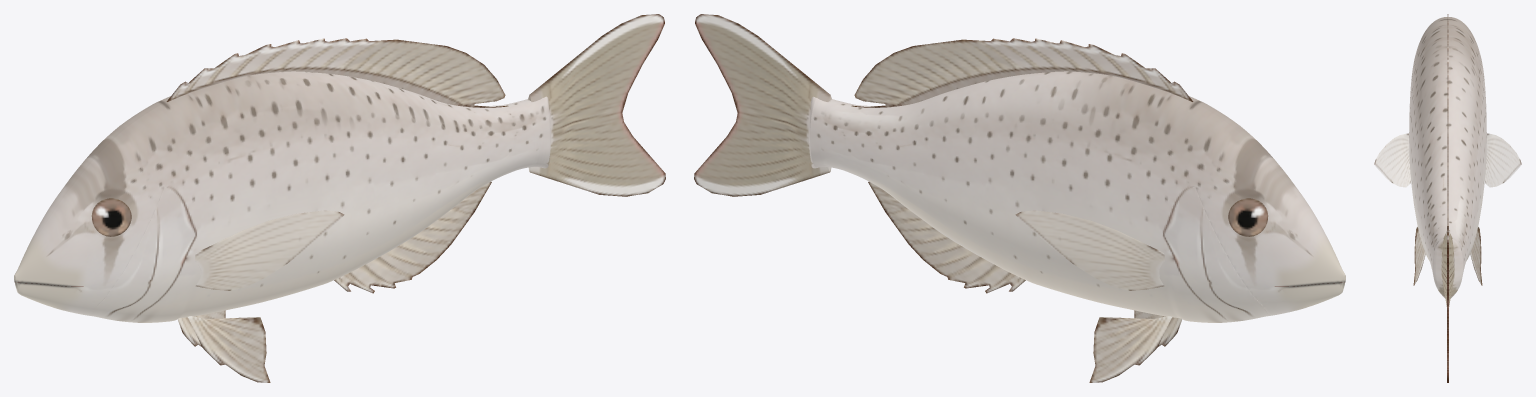
Rendered from shirodai-normal-v5.glb.
3 renders of one model, left to right at view 1: azimuth 30°, elevation 25°; view 2: azimuth 150°, elevation 25°; view 3: azimuth 270°, elevation 25°, orthographic. The views are drawn at different scales.
Parts seen in each view (by area): view 1: body, caudal, dorsal, pectoral_1, operculum_1, anal, pelvic_1, eye_1; view 2: body, caudal, dorsal, pectoral_-1, operculum_-1, anal, pelvic_-1, eye_-1; view 3: body, pectoral_-1, pectoral_1, caudal, dorsal, pelvic_-1, pelvic_1.
Boxes of the visible parts, <box> form: body: <box>14,71,550,322</box>; caudal: <box>528,14,665,196</box>; dorsal: <box>166,38,508,107</box>; pectoral_1: <box>195,210,344,290</box>; operculum_1: <box>87,187,195,321</box>; anal: <box>334,182,491,293</box>; pelvic_1: <box>188,316,270,382</box>; eye_1: <box>91,198,131,236</box>; body: <box>809,71,1345,322</box>; caudal: <box>694,14,831,196</box>; dorsal: <box>851,38,1193,107</box>; pectoral_-1: <box>1015,210,1164,290</box>; operculum_-1: <box>1164,187,1272,321</box>; anal: <box>868,182,1025,293</box>; pelvic_-1: <box>1089,316,1171,382</box>; eye_-1: <box>1228,198,1268,236</box>; body: <box>1409,17,1486,298</box>; pectoral_-1: <box>1485,133,1521,187</box>; pectoral_1: <box>1374,133,1410,187</box>; caudal: <box>1441,226,1454,382</box>; dorsal: <box>1447,14,1448,225</box>; pelvic_-1: <box>1470,227,1482,285</box>; pelvic_1: <box>1413,227,1425,285</box>.
Size of the model in its own units: 0.3702 by 0.1731 by 0.0892.
Materials: 3 (3 with a texture image).
